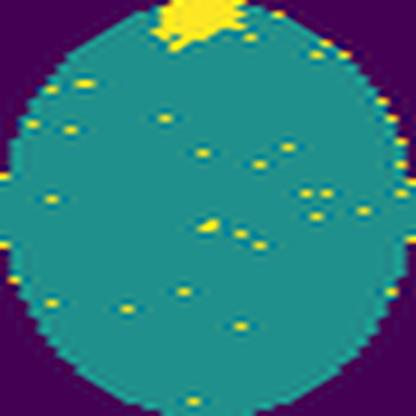Edge-Loc: (145, 0, 254, 55)
